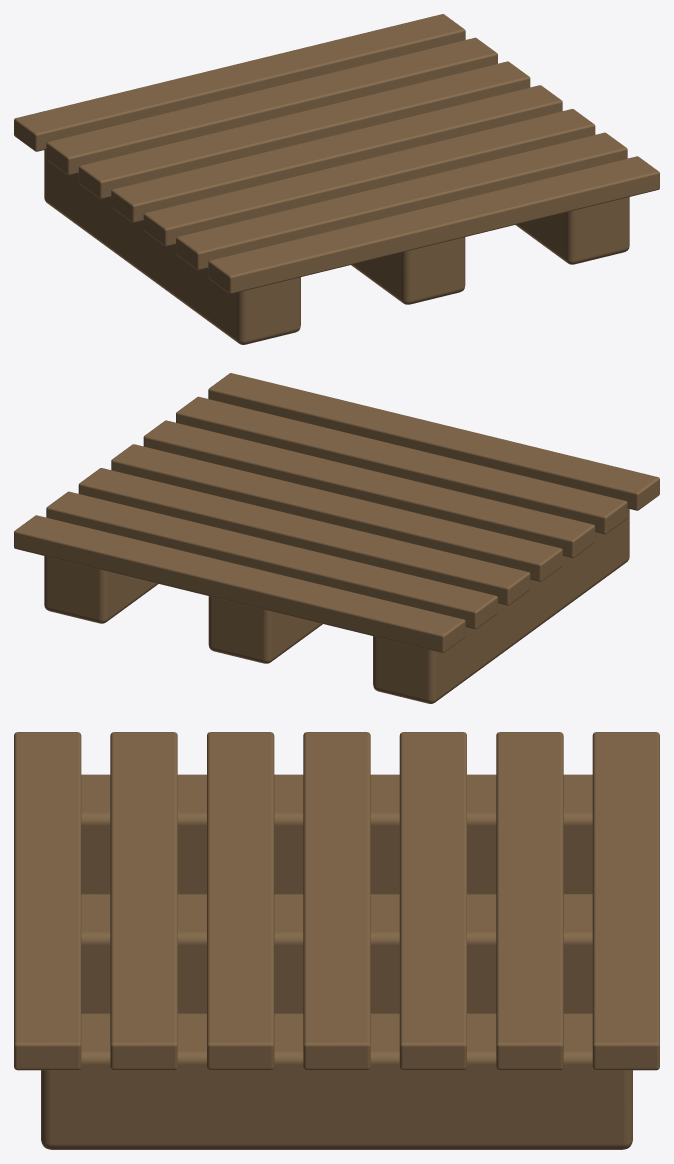
The model's file is pallet.glb.
3 renders of one model, top to bottom at view 1: azimuth 30°, elevation 25°; view 2: azimuth 150°, elevation 25°; view 3: azimuth 270°, elevation 25°, orthographic. The views are drawn at different scales.
Visible parts, largest first — view 1: pallet; view 2: pallet; view 3: pallet.
Part boxes in pixels (x1=…): pallet: x1=14, y1=14, x2=659, y2=344; pallet: x1=14, y1=373, x2=659, y2=703; pallet: x1=14, y1=732, x2=659, y2=1149.
Bounding box in the file's own units: 1.1 × 0.2025 × 0.96.
